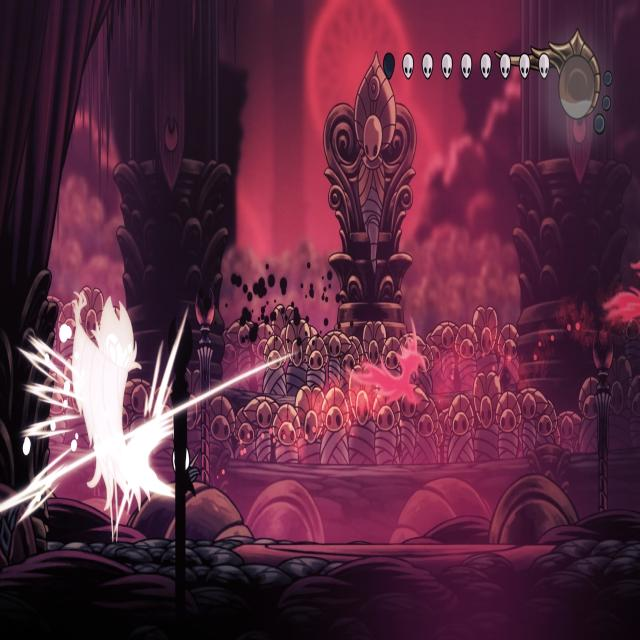Fire Bat: (353, 319, 424, 410), (606, 254, 640, 326)
Grimm: (61, 295, 143, 547)
Player: (170, 422, 203, 500)
